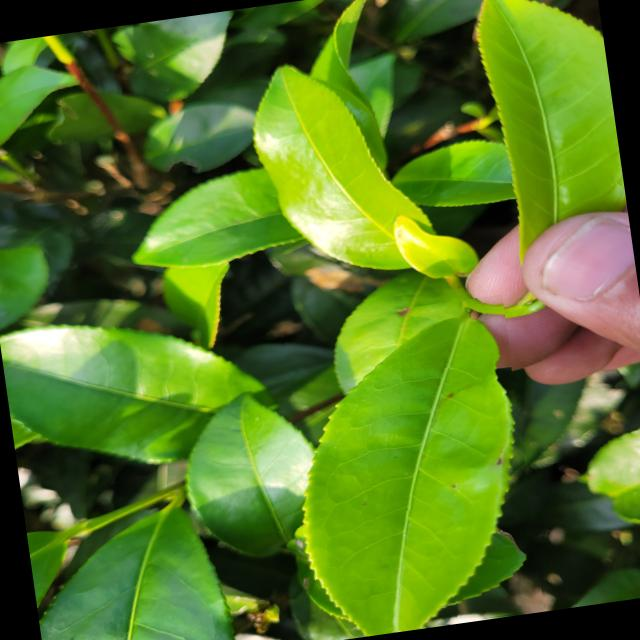Category B(2-4 days): (248, 293, 546, 640)
